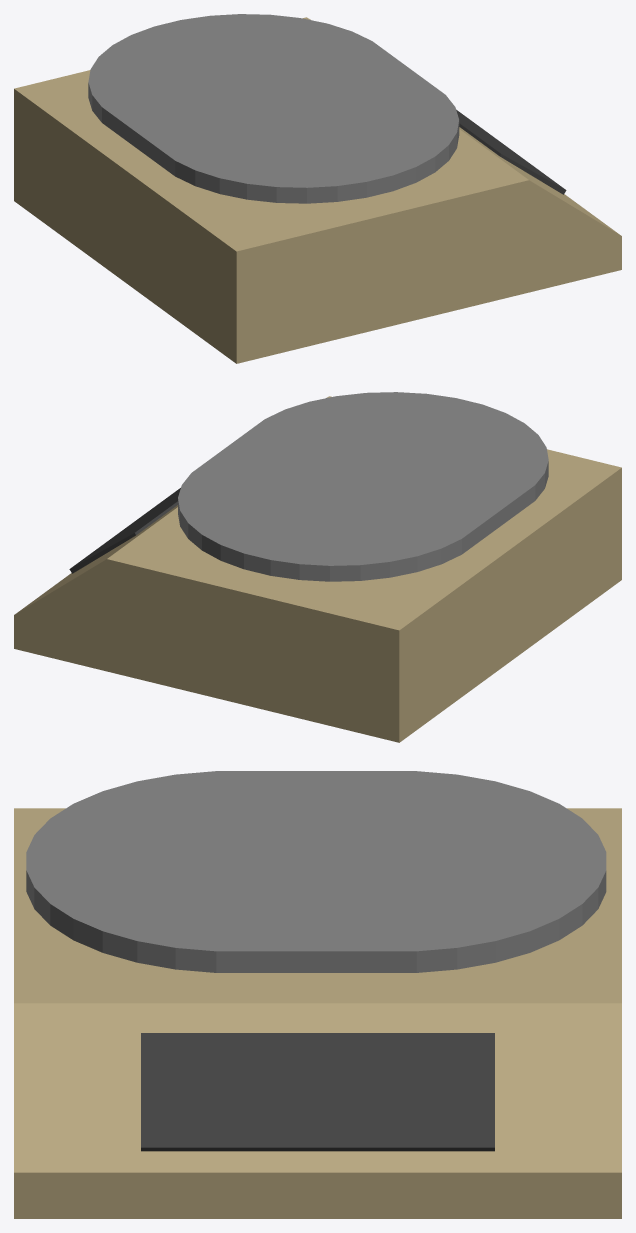
Rendered from weegschaal.fbx.
3 renders of one model, top to bottom at view 1: azimuth 30°, elevation 25°; view 2: azimuth 150°, elevation 25°; view 3: azimuth 270°, elevation 25°, orthographic. The views are drawn at different scales.
Parts seen in each view (by area): view 1: Cube, Cylinder, Cube.001; view 2: Cube, Cylinder, Cube.001; view 3: Cube, Cylinder, Cube.001.
Part boxes in pixels (bbox=[...]): Cube: bbox=[14, 17, 621, 363]; Cylinder: bbox=[88, 14, 459, 203]; Cube.001: bbox=[456, 109, 566, 194]; Cube: bbox=[14, 396, 621, 742]; Cylinder: bbox=[178, 392, 548, 581]; Cube.001: bbox=[69, 488, 180, 573]; Cube: bbox=[14, 808, 621, 1218]; Cylinder: bbox=[26, 771, 606, 972]; Cube.001: bbox=[141, 1033, 494, 1151].
Bounding box in the file's own units: 21.11 × 7.64 × 21.11.
